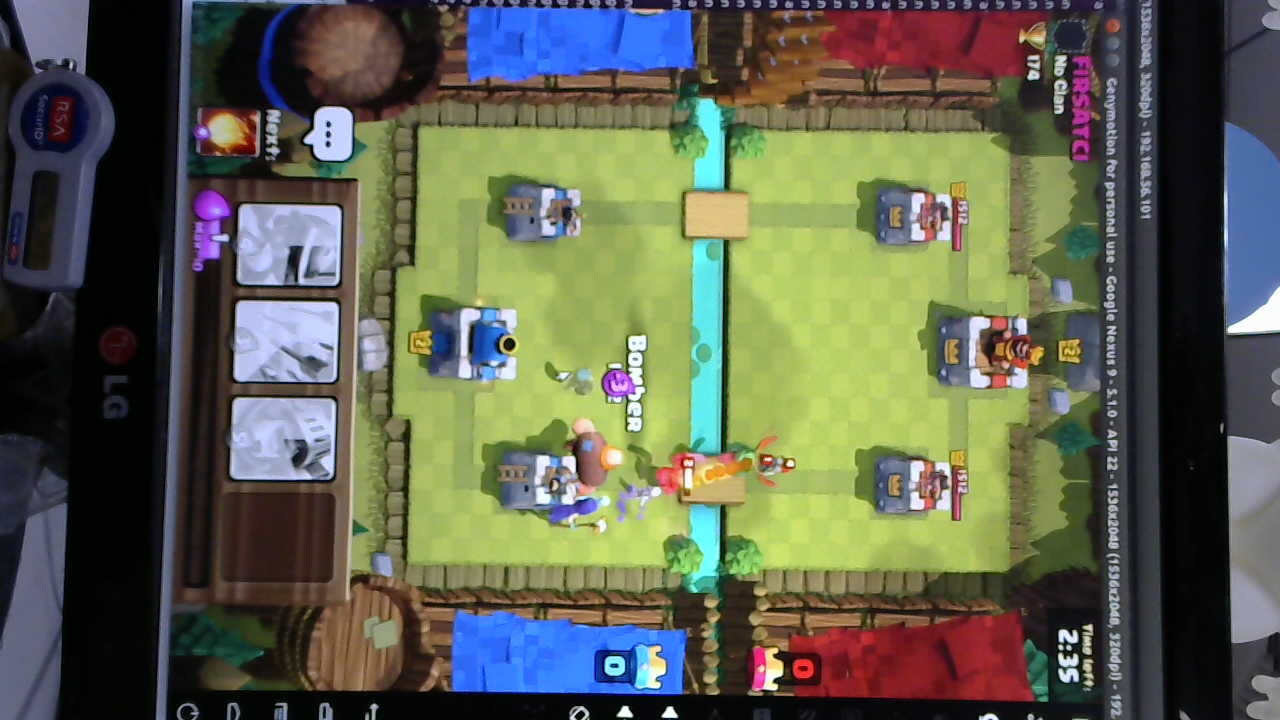arena: (503, 181, 586, 247), (505, 451, 583, 514)
bomb: (761, 448, 798, 491)
dragon: (716, 429, 781, 489)
earena: (870, 453, 959, 518), (878, 186, 956, 244)
eking: (934, 309, 1040, 393)
giant: (569, 414, 619, 501)
king: (429, 306, 524, 383)
minipekka: (647, 454, 694, 498)
witch: (535, 496, 625, 532)
